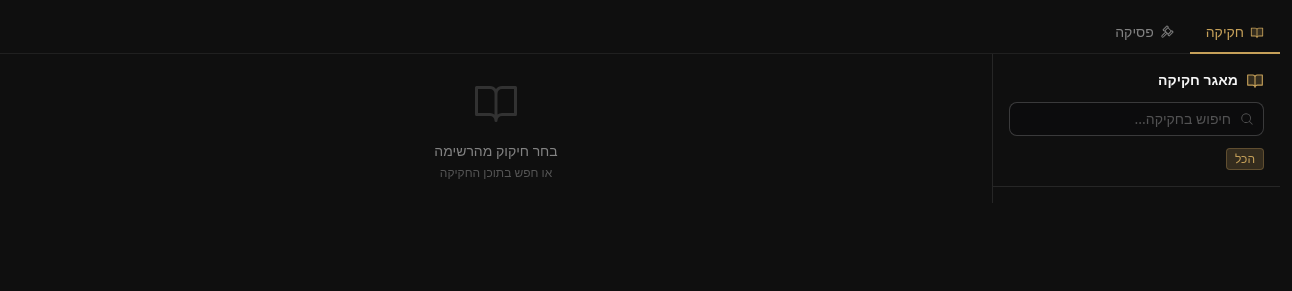
Scenario: LegalLibraryPage › switches to verdicts tab when clicked
Click the button "פסיקה": (1145, 33) [1099,12,1190,54]
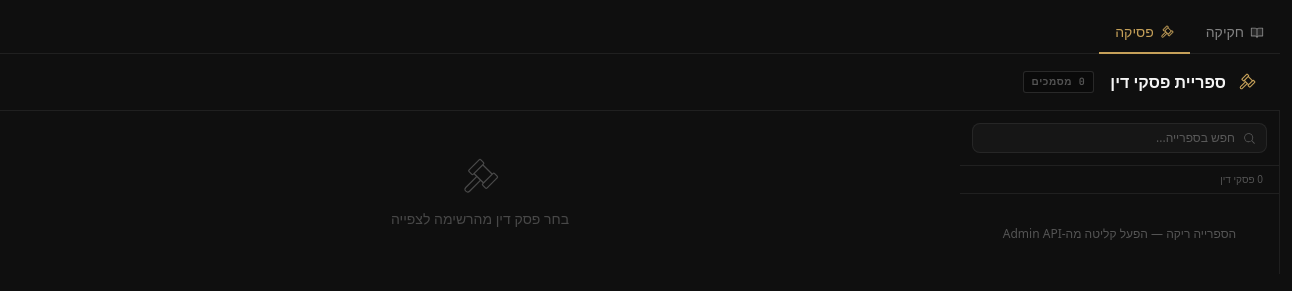
Check: the heading "ספריית פסקי דין" is shown, box [1110,70,1226,94]
